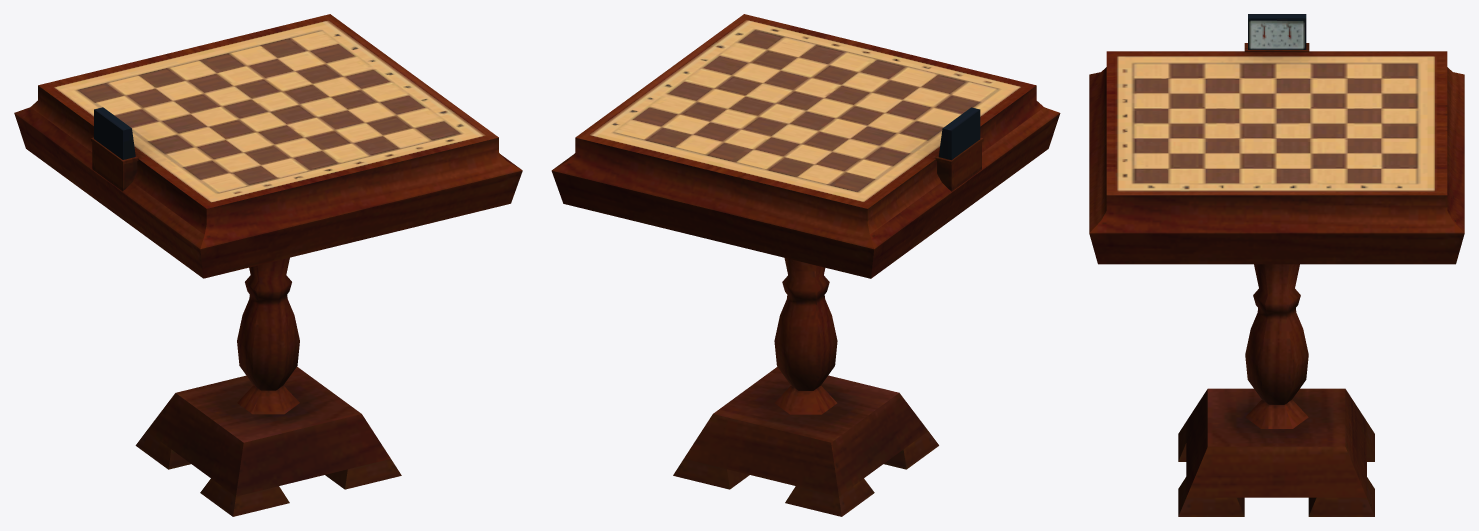
File: furni_0200401.FBX
3 views of the same model, side by side, from view 1: azimuth 30°, elevation 25°; view 2: azimuth 150°, elevation 25°; view 3: azimuth 270°, elevation 25° (orthographic).
Parts seen in each view (by area): view 1: furni_0200401; view 2: furni_0200401; view 3: furni_0200401.
Part boxes in pixels (box(x1,y1,x2,y2)): furni_0200401: box(14, 14, 522, 516); furni_0200401: box(551, 14, 1060, 516); furni_0200401: box(1089, 14, 1464, 516).
Size of the model in its own units: 77.47 by 87.06 by 77.42.
